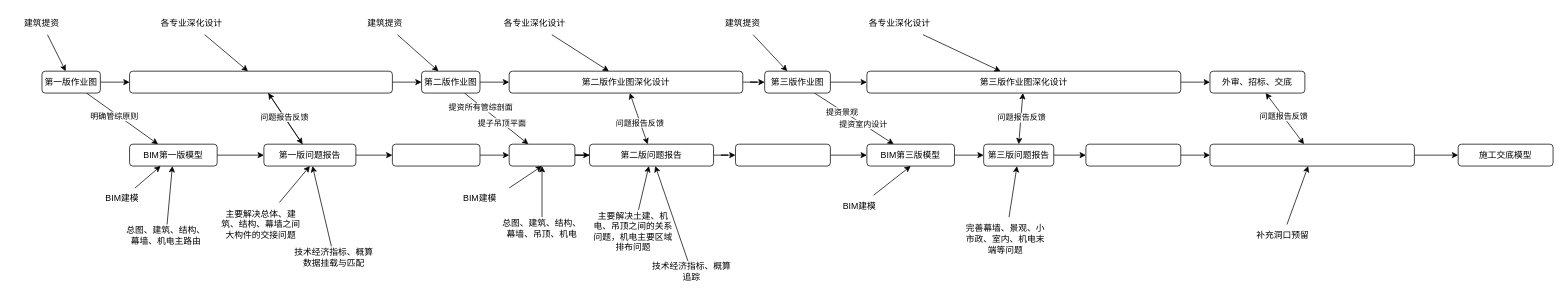
This 1566x295 diagram has some shape labels left out. Here are the shapes that lost their labels. From the top down, the centre of each, then its label:
[260,81]: 第一版作业图深化设计
[436,154]: 完成第一版BIM模型
[541,154]: BIM第二版模型
[782,154]: 完成第二版BIM模型
[1133,154]: 完成第三版BIM模型
[1311,154]: 模型补充与完善
